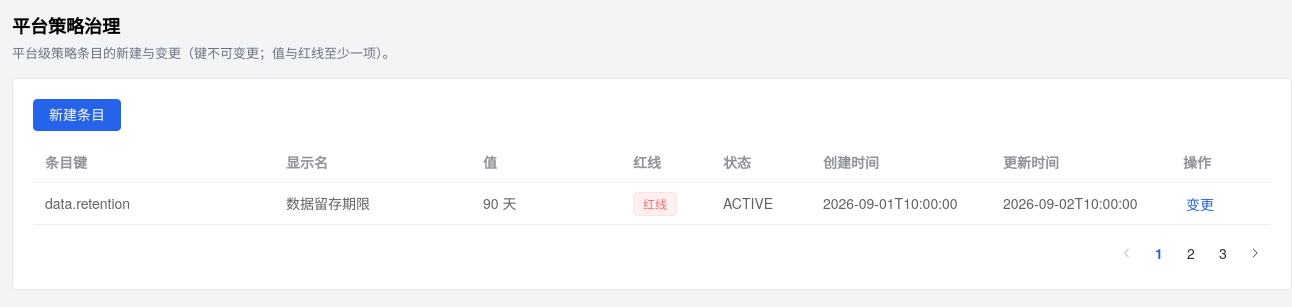
it: 平台策略条目列表（T26） › 翻页：按新页码与每页条数重新拉取并刷新（T26 分页）
Step 1. Click the button with class "btn-next" → coordinates (1255, 253), box x1=1239 y1=237 x2=1271 y2=269
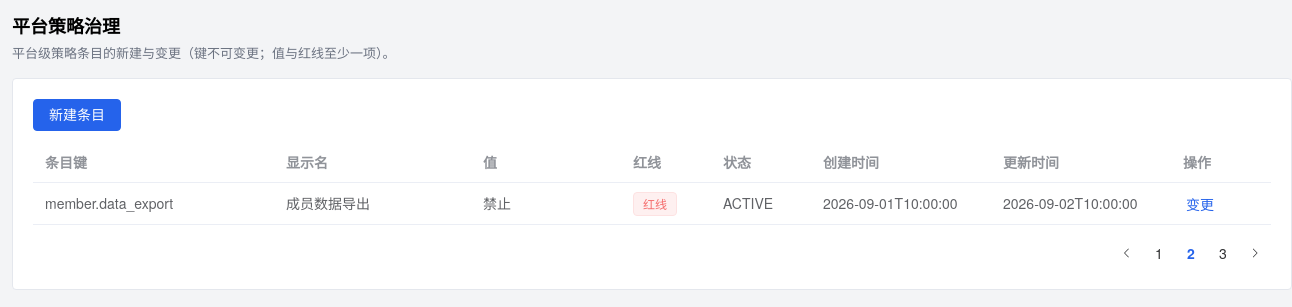
Expected: the text "禁止" is shown, x1=483 y1=193 x2=511 y2=213
